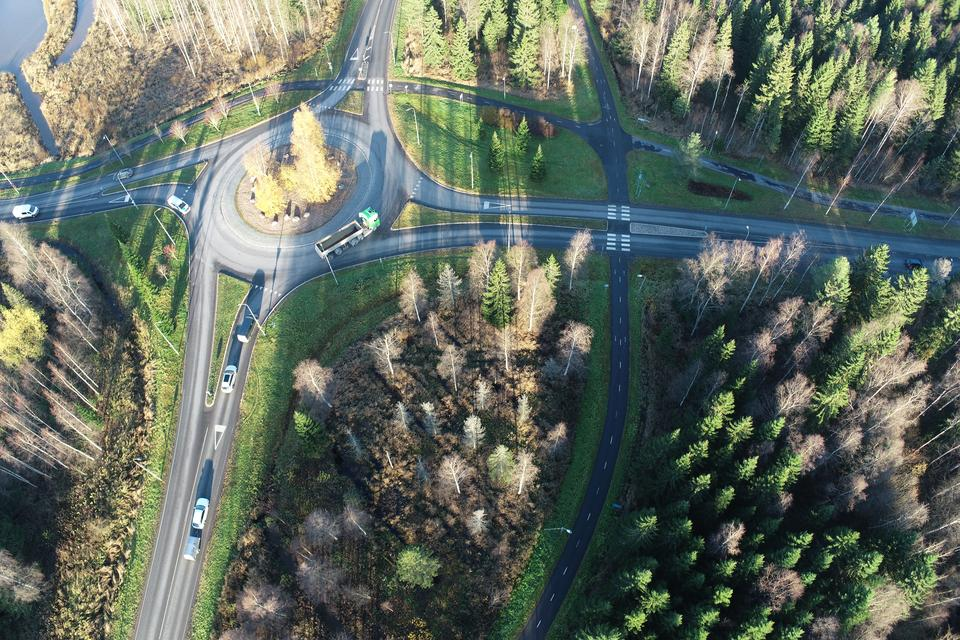intersection: (589, 180, 652, 290), (308, 67, 401, 101)
roundabout: (152, 106, 437, 361)
